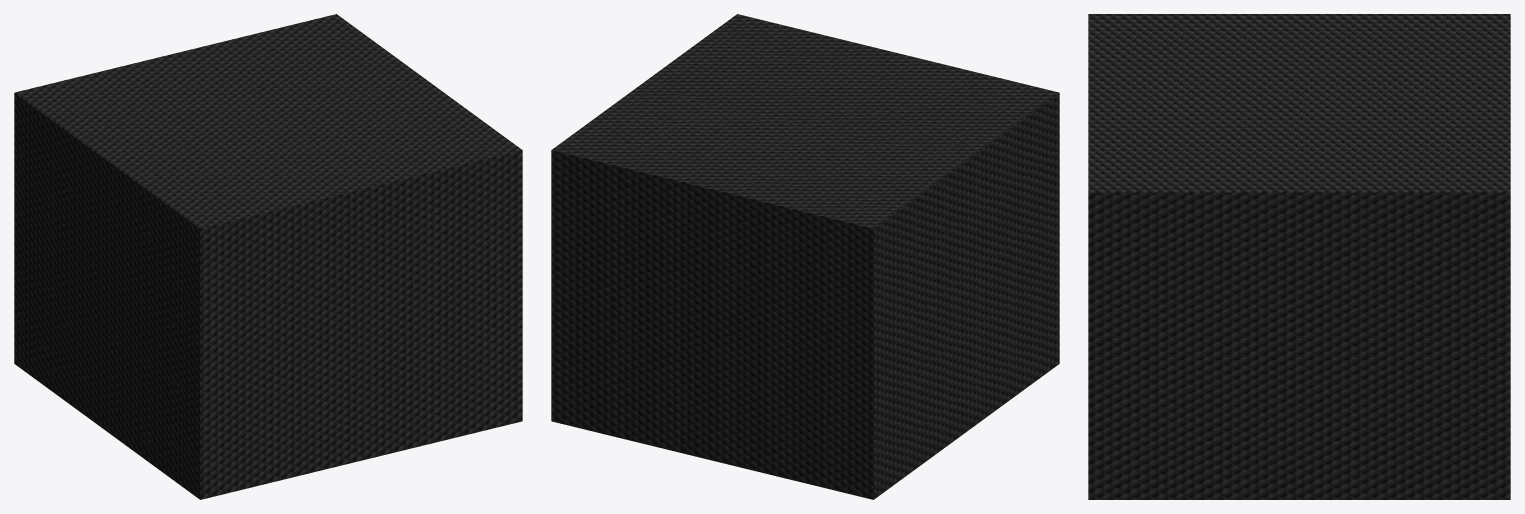
The model's file is selectionDisaster.fbx.
The picture shows the model from 3 angles, left to right: view 1: azimuth 30°, elevation 25°; view 2: azimuth 150°, elevation 25°; view 3: azimuth 270°, elevation 25°; orthographic projection. The views are drawn at different scales.
Parts seen in each view (by area): view 1: Plane.005; view 2: Plane.005; view 3: Plane.005.
Part boxes in pixels (box(x1,y1,x2,y2)): Plane.005: box(14, 14, 522, 499); Plane.005: box(551, 14, 1059, 499); Plane.005: box(1088, 14, 1510, 499).
Bounding box in the file's own units: 2000 × 1607 × 2000.
Materials: 5 (2 with a texture image).
